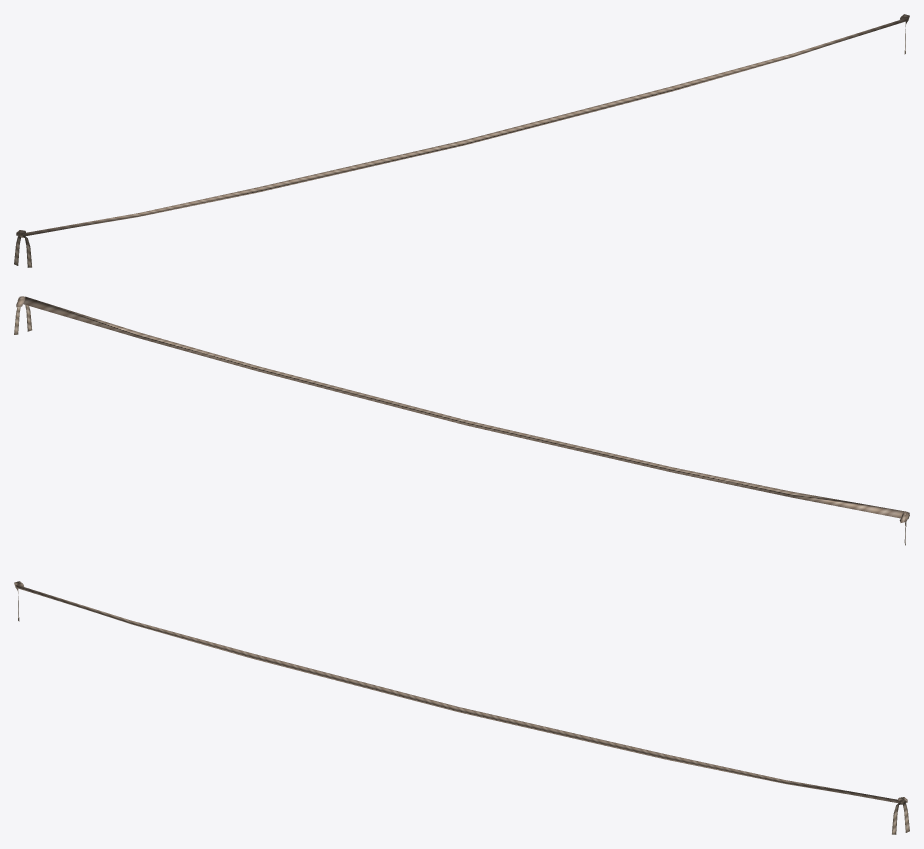
File: jsf_2P_String_s03_04.fbx
The picture shows the model from 3 angles, top to bottom: view 1: azimuth 30°, elevation 25°; view 2: azimuth 150°, elevation 25°; view 3: azimuth 330°, elevation 25°; orthographic projection.
Parts seen in each view (by area): view 1: jsf_2P_String_s03_04; view 2: jsf_2P_String_s03_04; view 3: jsf_2P_String_s03_04.
Part boxes in pixels (<box>): jsf_2P_String_s03_04: <box>14,14,909,267</box>; jsf_2P_String_s03_04: <box>14,296,909,545</box>; jsf_2P_String_s03_04: <box>14,581,909,834</box>.
Bounding box in the file's own units: 254 × 9.72 × 4.94.
